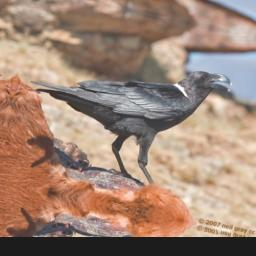Crow: (11, 32, 235, 200)
